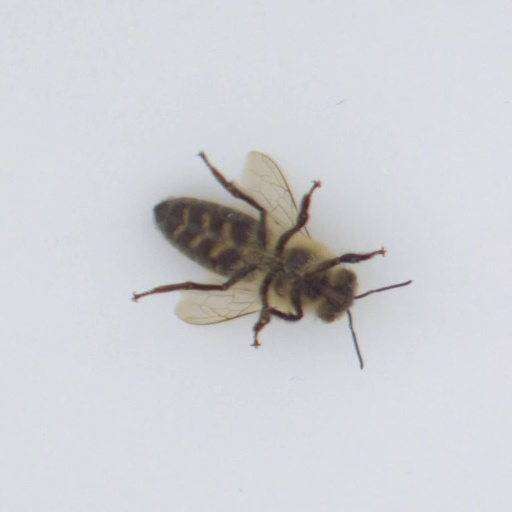Bee: (132, 174, 371, 334)
